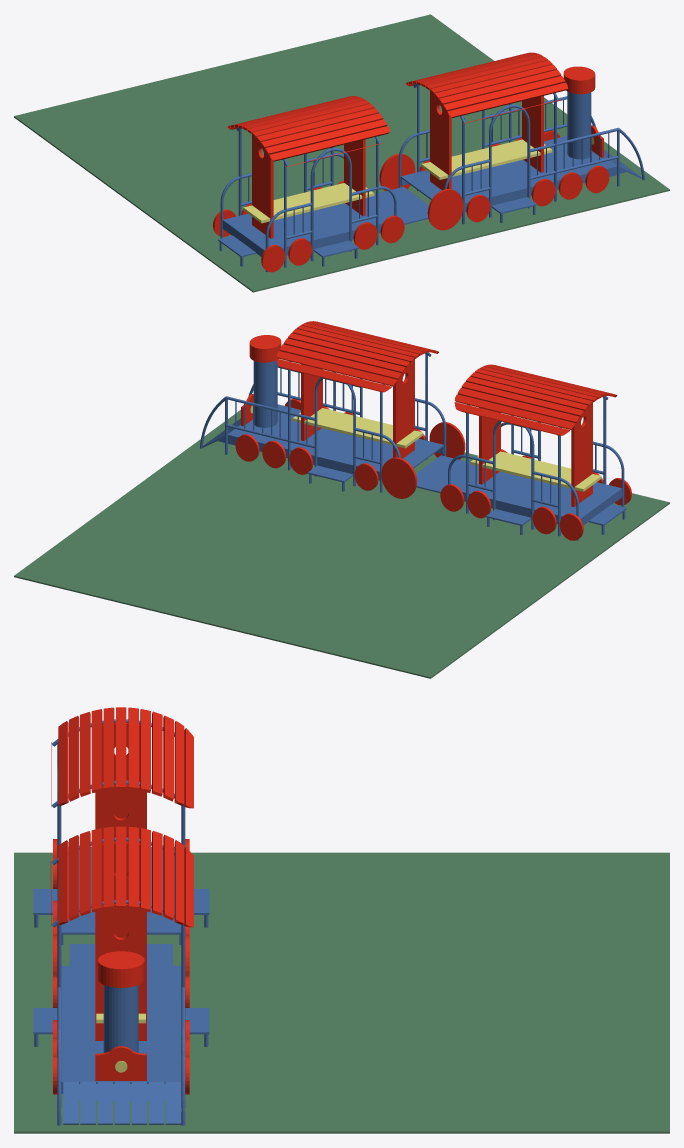
File: cenario.dae
3 views of the same model, one above another, from view 1: azimuth 30°, elevation 25°; view 2: azimuth 150°, elevation 25°; view 3: azimuth 270°, elevation 25° (orthographic). The views are drawn at different scales.
Parts seen in each view (by area): view 1: cenario; view 2: cenario; view 3: cenario.
Part boxes in pixels (box(x1,y1,x2,y2)): cenario: box(14, 14, 669, 292); cenario: box(14, 321, 669, 678); cenario: box(14, 707, 669, 1133).
Size of the model in its own units: 16.75 by 16.65 by 4.79.
